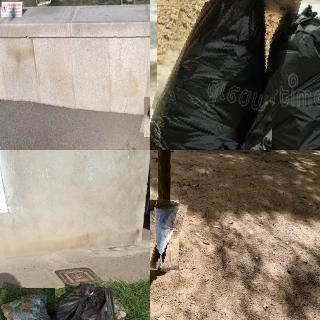Garbage: (150, 0, 287, 150), (252, 5, 320, 150), (51, 280, 118, 320), (150, 198, 183, 271), (0, 284, 58, 320), (141, 96, 150, 139)
